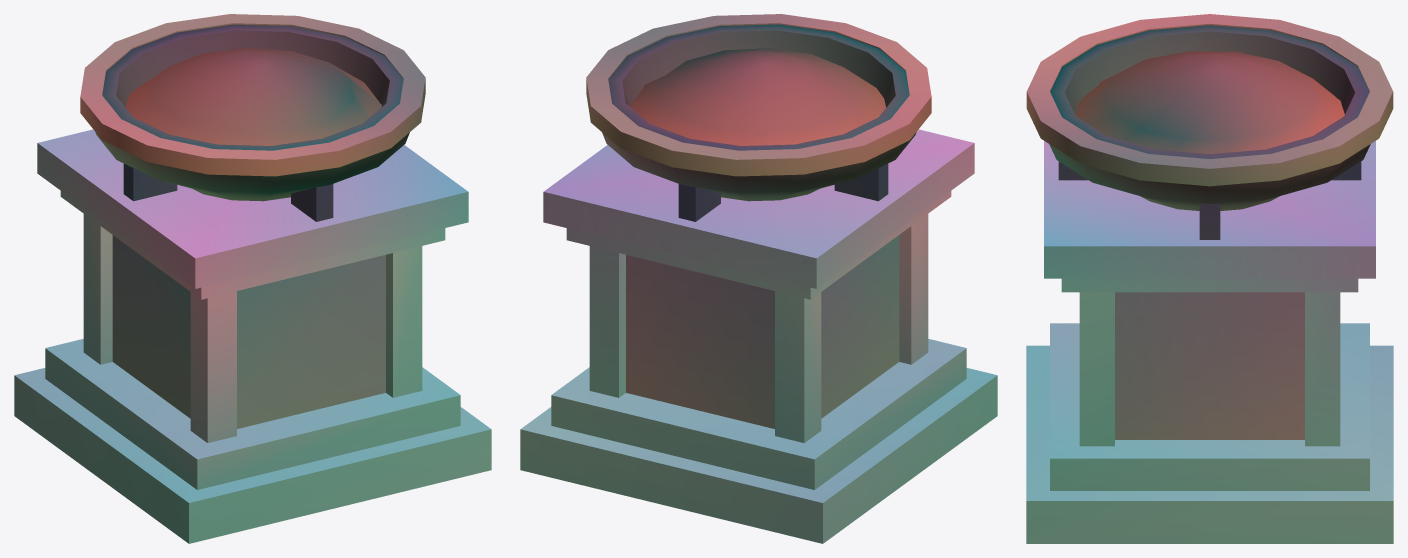
File: vigil_brazier.glb
3 views of the same model, side by side, from view 1: azimuth 30°, elevation 25°; view 2: azimuth 150°, elevation 25°; view 3: azimuth 270°, elevation 25° (orthographic). The views are drawn at different scales.
Visible parts, largest first — view 1: watch_plinth, watch_core, watch_coals, watch_bowl, watch_rim, watch_brackets; view 2: watch_plinth, watch_core, watch_coals, watch_bowl, watch_rim, watch_brackets; view 3: watch_plinth, watch_core, watch_coals, watch_bowl, watch_rim, watch_brackets.
Part boxes in pixels (bbox=[...]): watch_plinth: bbox=[14, 129, 491, 543]; watch_core: bbox=[112, 235, 385, 428]; watch_coals: bbox=[126, 48, 381, 145]; watch_bowl: bbox=[95, 24, 409, 201]; watch_rim: bbox=[80, 14, 425, 176]; watch_brackets: bbox=[123, 163, 333, 221]; watch_plinth: bbox=[520, 129, 997, 543]; watch_core: bbox=[626, 235, 899, 428]; watch_coals: bbox=[630, 48, 885, 145]; watch_bowl: bbox=[602, 24, 916, 201]; watch_rim: bbox=[586, 14, 931, 176]; watch_brackets: bbox=[678, 163, 888, 221]; watch_plinth: bbox=[1026, 141, 1393, 543]; watch_core: bbox=[1115, 292, 1304, 439]; watch_coals: bbox=[1075, 51, 1344, 153]; watch_bowl: bbox=[1049, 25, 1370, 210]; watch_rim: bbox=[1026, 14, 1393, 186]; watch_brackets: bbox=[1058, 161, 1361, 239].
Size of the model in its own units: 1.24 by 1.49 by 1.24.
